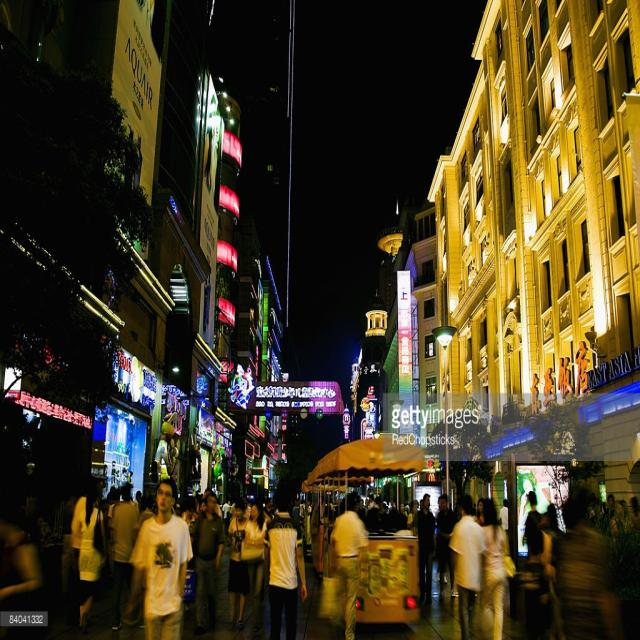body: (547, 480, 640, 640), (121, 475, 196, 639), (260, 485, 309, 639), (0, 504, 54, 640), (69, 474, 110, 634), (328, 491, 369, 640), (448, 491, 488, 639), (478, 496, 518, 639), (105, 479, 141, 634), (191, 490, 226, 638), (70, 475, 103, 629), (535, 499, 569, 639), (513, 527, 555, 639), (238, 496, 270, 628), (223, 493, 253, 632), (64, 481, 96, 605), (411, 492, 437, 607), (358, 492, 423, 530), (436, 490, 458, 601), (522, 489, 544, 557), (176, 488, 206, 516), (133, 490, 159, 516), (292, 498, 316, 526), (138, 492, 157, 525), (212, 497, 237, 518), (262, 495, 276, 521), (475, 496, 487, 526), (105, 482, 121, 504), (222, 496, 231, 535), (242, 493, 255, 520), (499, 498, 509, 533), (433, 496, 442, 519), (448, 500, 462, 512), (436, 572, 450, 584), (325, 499, 335, 512)
